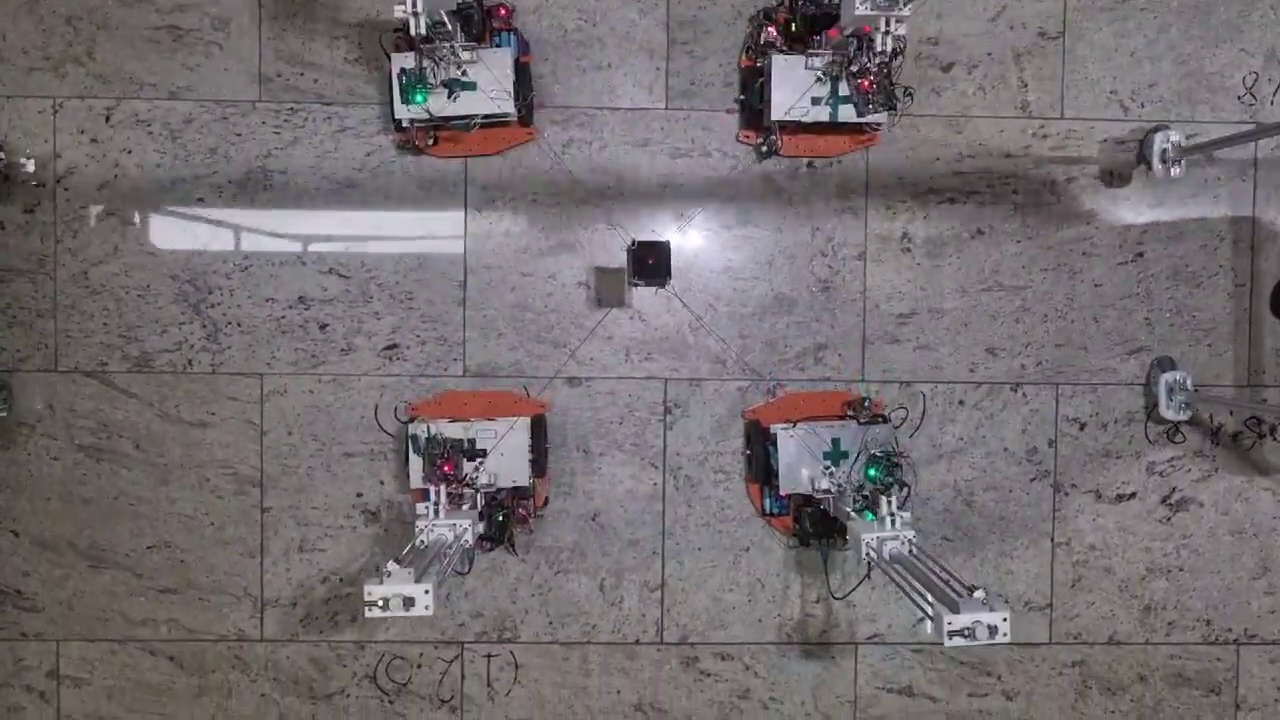e0: (631, 239, 670, 286)
r1: (746, 415, 895, 483)
r2: (741, 63, 881, 130)
r3: (389, 62, 533, 126)
r4: (406, 416, 549, 477)
y_+_axis_vector: (664, 379, 1057, 383)
y_-_axis_vector: (262, 374, 666, 378)
